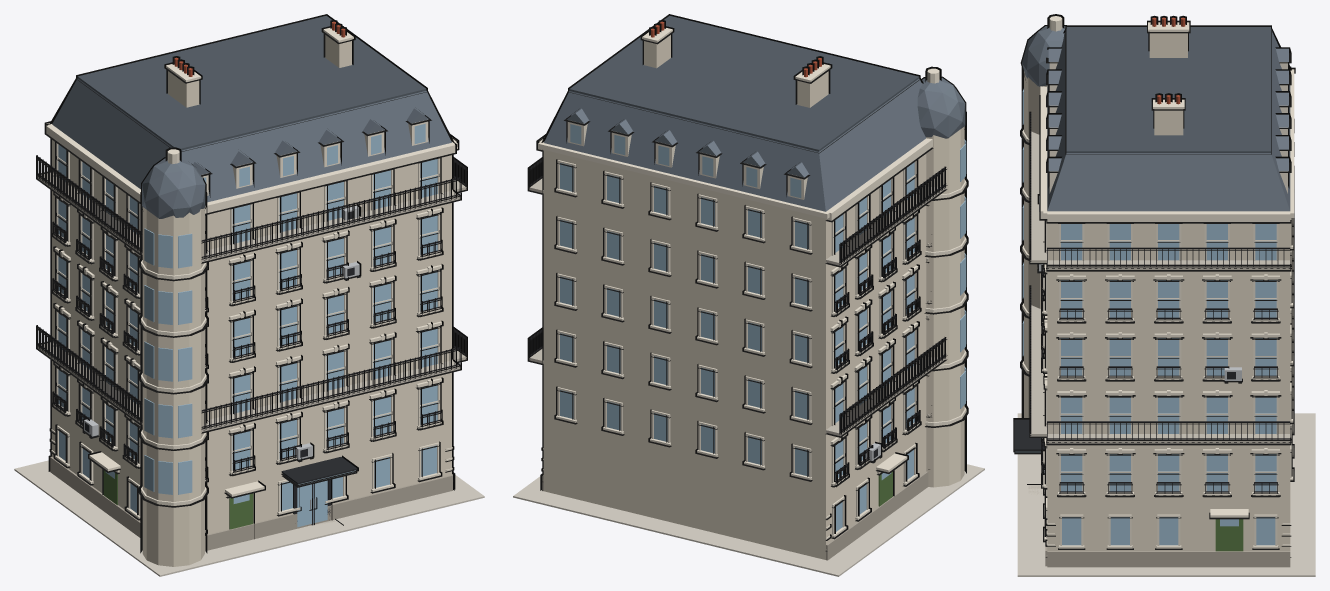
The model's file is Konut_ref_kira.fbx.
3 views of the same model, side by side, from view 1: azimuth 30°, elevation 25°; view 2: azimuth 150°, elevation 25°; view 3: azimuth 270°, elevation 25° (orthographic). The views are drawn at different scales.
Visible parts, largest first — view 1: Konut_ref_kira; view 2: Konut_ref_kira; view 3: Konut_ref_kira.
Boxes of the visible parts, bbox=[...] form: Konut_ref_kira: bbox=[14, 14, 484, 576]; Konut_ref_kira: bbox=[513, 14, 984, 576]; Konut_ref_kira: bbox=[1013, 14, 1315, 576].
Size of the model in its own units: 18 by 23.21 by 14.2.
